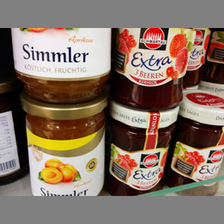jam: (20, 93, 111, 196), (11, 29, 114, 103), (107, 100, 180, 195), (111, 28, 191, 110), (167, 90, 224, 195)
